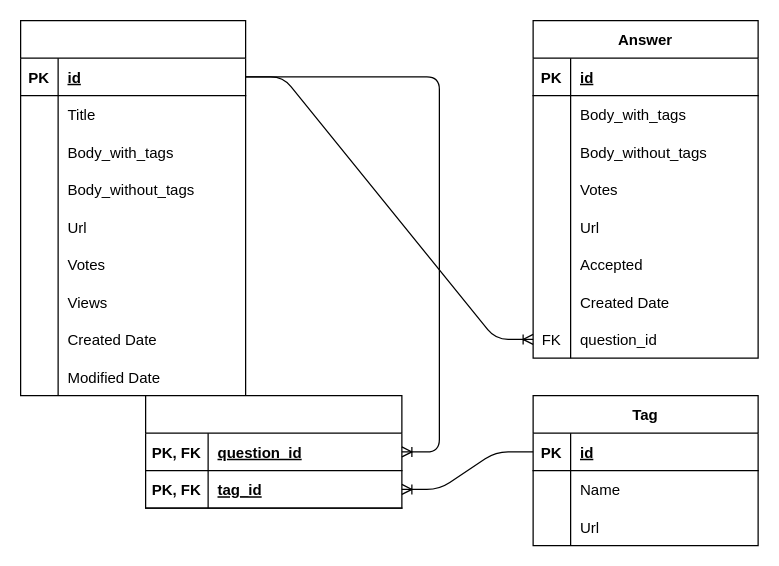
The diagram is 779 pixels wide and 566 high, and some of its shapes have lost their labels. The shapes that lost their labels are listed below. From the top down, each one's box as (x1, y1, x2, y2) in pixels, then its label:
(19, 19, 246, 396): Question
(144, 394, 402, 508): Question Tag
